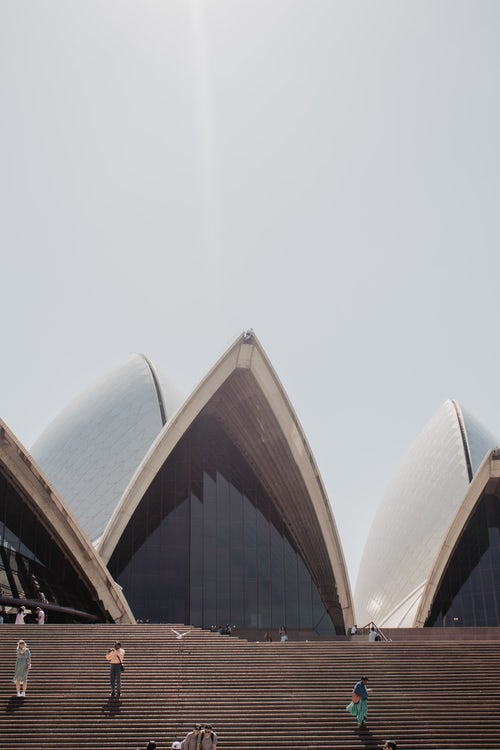opera house: (8, 304, 500, 643)
